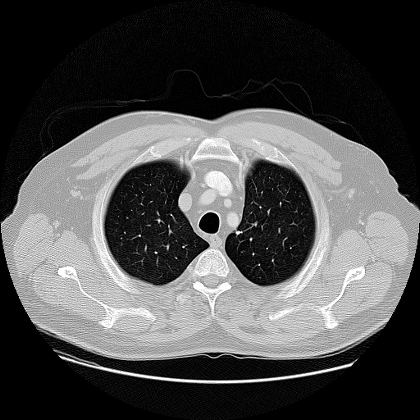nodule: (235, 229, 241, 235)
